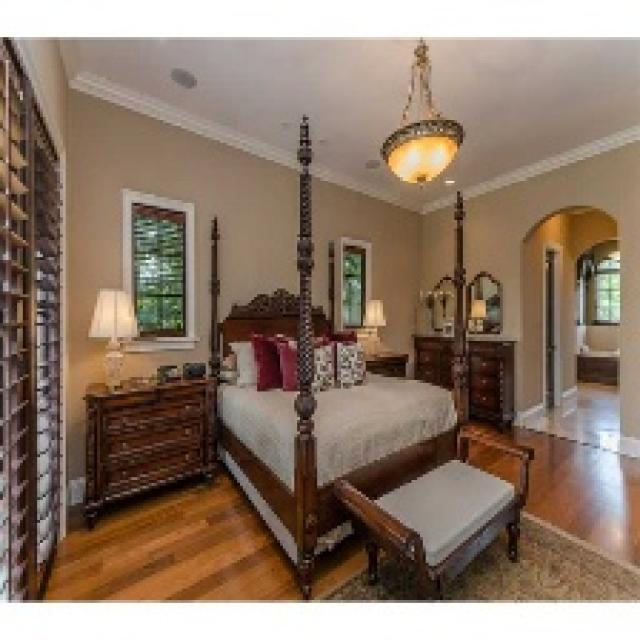Bed: (206, 112, 463, 597)
